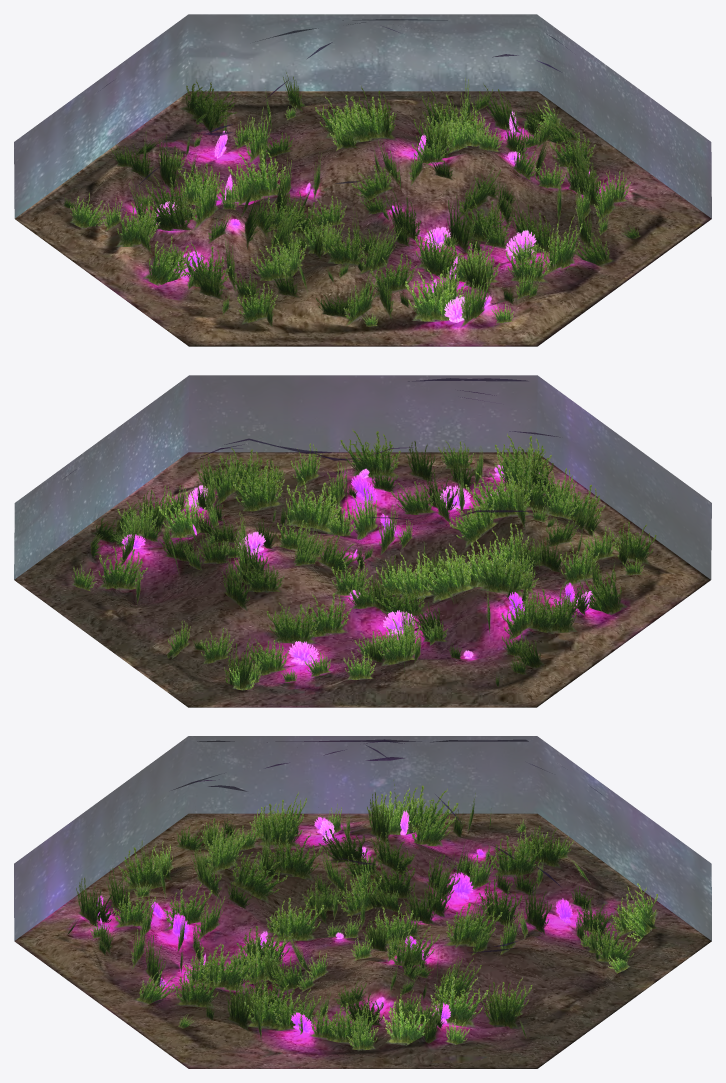
File: Ocean_2_0_baked.glb
The picture shows the model from 3 angles, top to bottom: view 1: azimuth 30°, elevation 25°; view 2: azimuth 150°, elevation 25°; view 3: azimuth 270°, elevation 25°; orthographic projection.
Parts seen in each view (by area): view 1: ocean_2_0.002, ocean_2_0.001; view 2: ocean_2_0.002, ocean_2_0.001; view 3: ocean_2_0.002, ocean_2_0.001.
Part boxes in pixels (left/top/right/bottom): ocean_2_0.002: left=14, top=14, right=711, bottom=346; ocean_2_0.001: left=63, top=72, right=640, bottom=327; ocean_2_0.002: left=14, top=375, right=711, bottom=707; ocean_2_0.001: left=72, top=428, right=656, bottom=690; ocean_2_0.002: left=14, top=736, right=711, bottom=1068; ocean_2_0.001: left=67, top=780, right=658, bottom=1050.
Bounding box in the file's own units: 1.73 × 0.3936 × 2.
4 materials, 4 textured.
